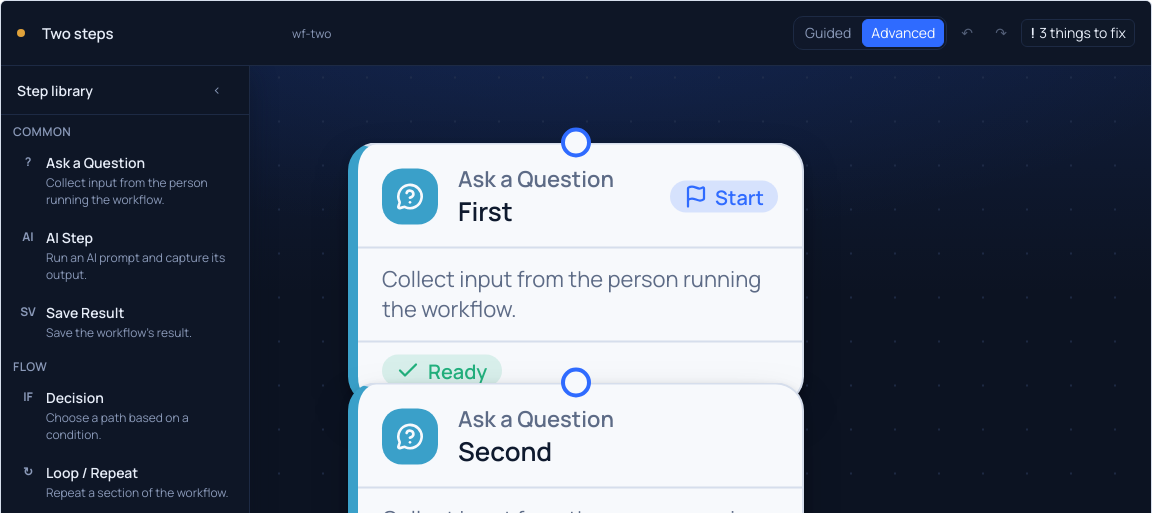
Test: Start-step chooser scoping (Guided edit mode only) › does not render in Advanced mode, only once Guided is active
Click the button with test id "workflow-builder-mode-guided". click: click(828, 33)
box: top-left (796, 19), bottom-right (860, 47)
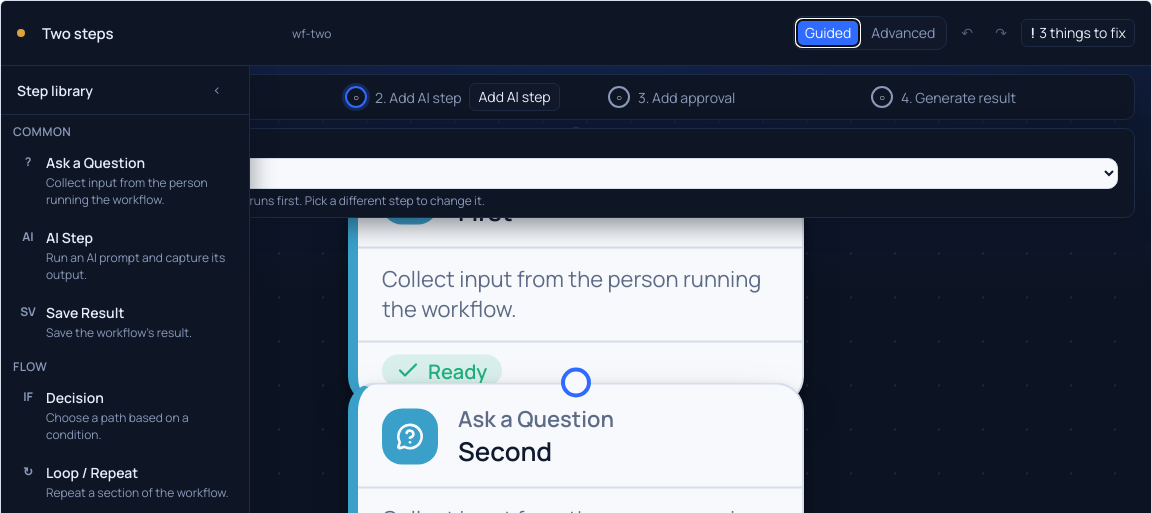
expect the dropdown with test id "guided-start-step-select" is shown: met, box top-left (90, 158), bottom-right (1118, 188)
Click the button with test id "workflow-builder-mode-advanced". click: click(903, 33)
box: top-left (862, 19), bottom-right (944, 47)
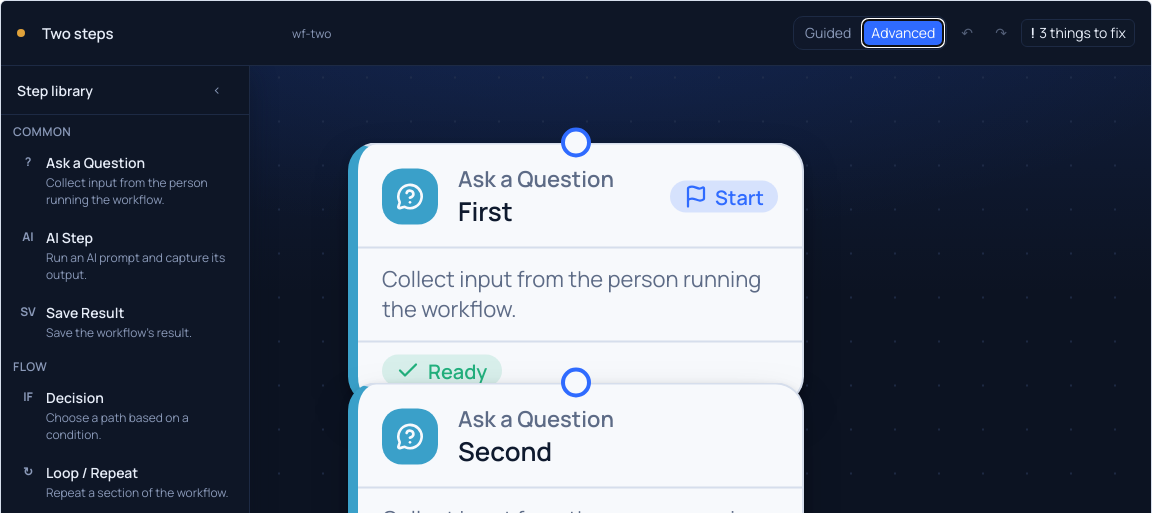
expect the dropdown with test id "guided-start-step-select" is gone: met
